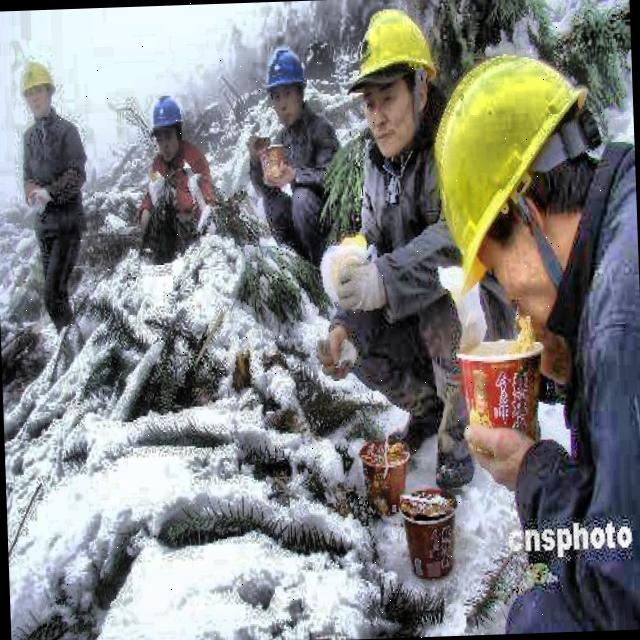helmet: (428, 52, 614, 322), (345, 0, 442, 153), (260, 44, 310, 128), (146, 85, 188, 165), (17, 50, 58, 119)
